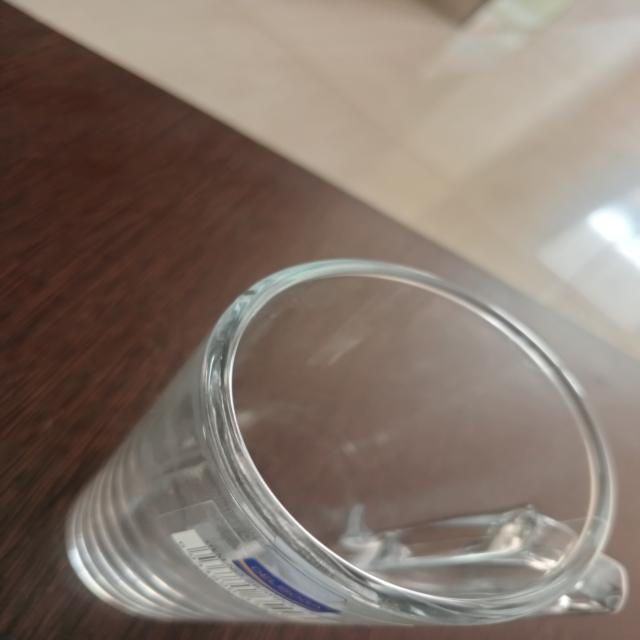glass-VX4N: (62, 262, 634, 624)
